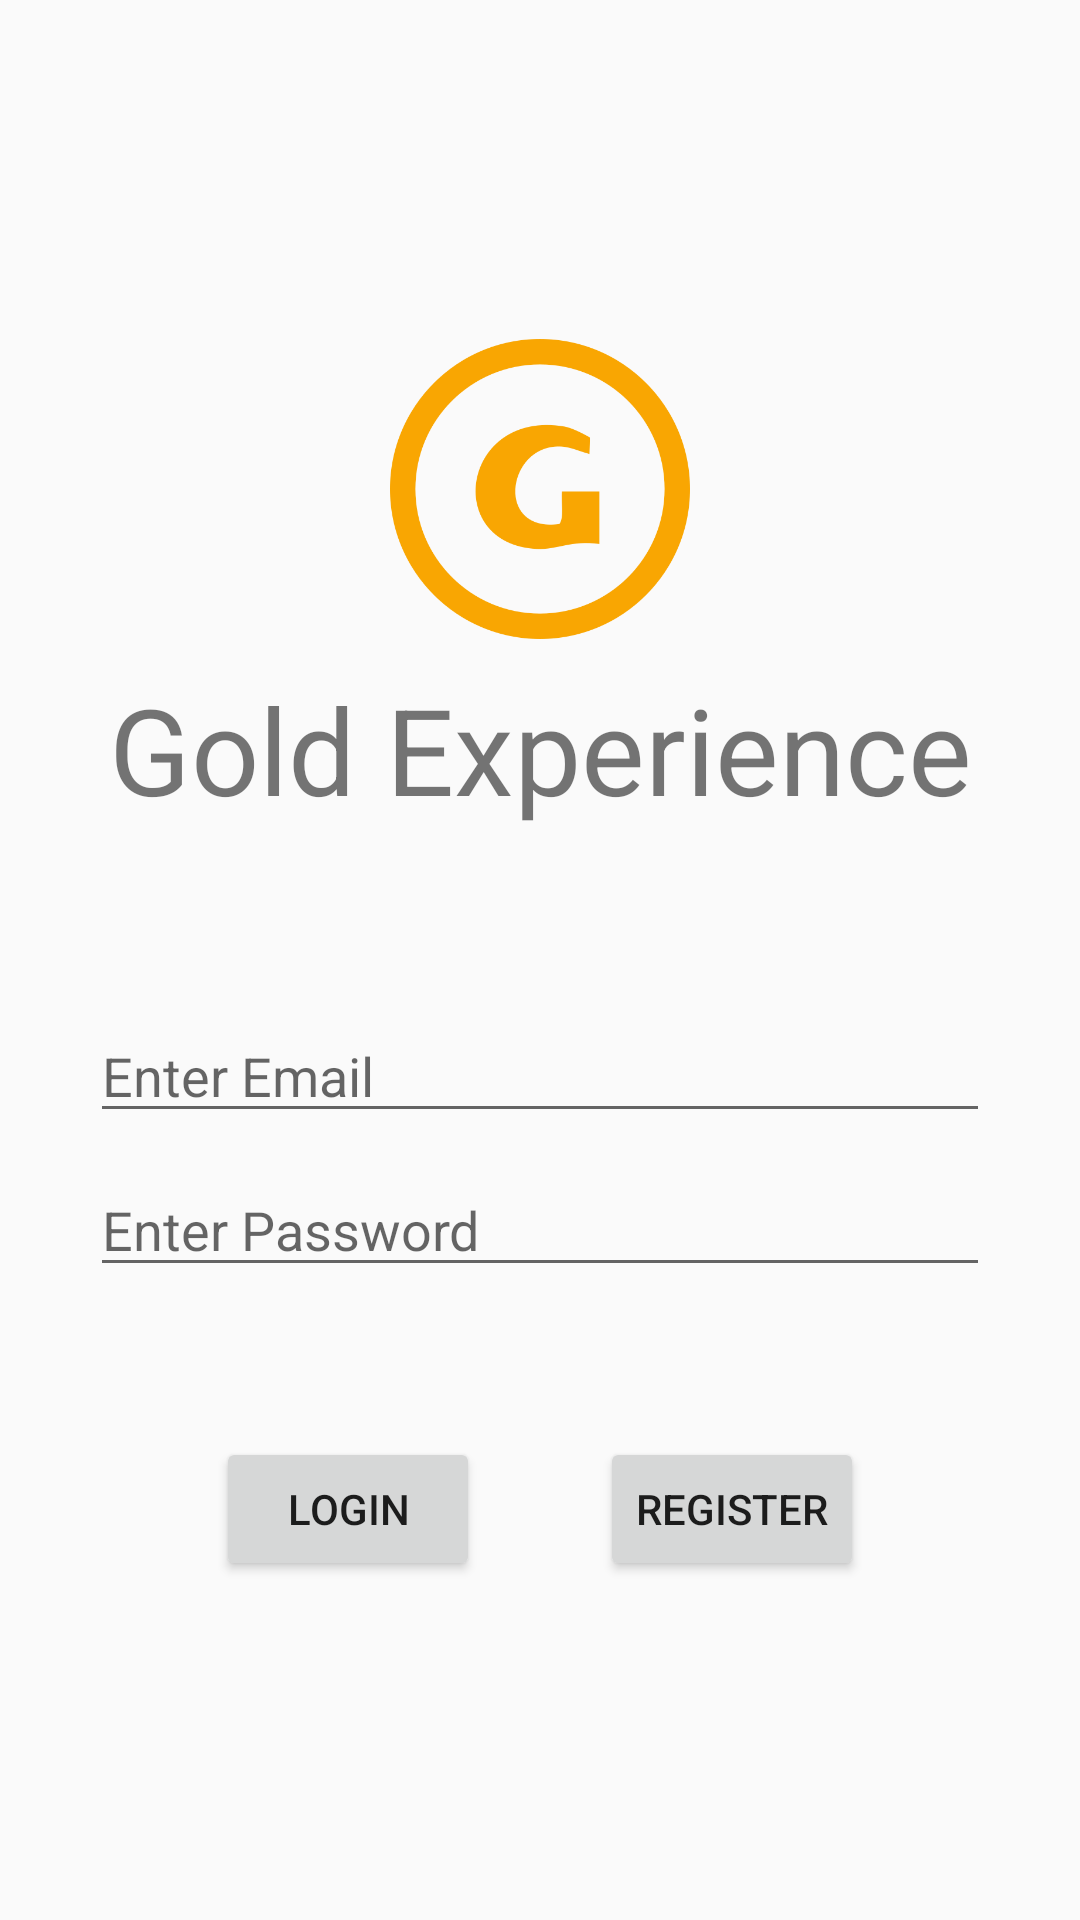

Locate icon controls on the screen. Image size 1080 x 1920, boxes as (x1, y1, x2, y2).
symbol: (390, 339, 690, 639)
